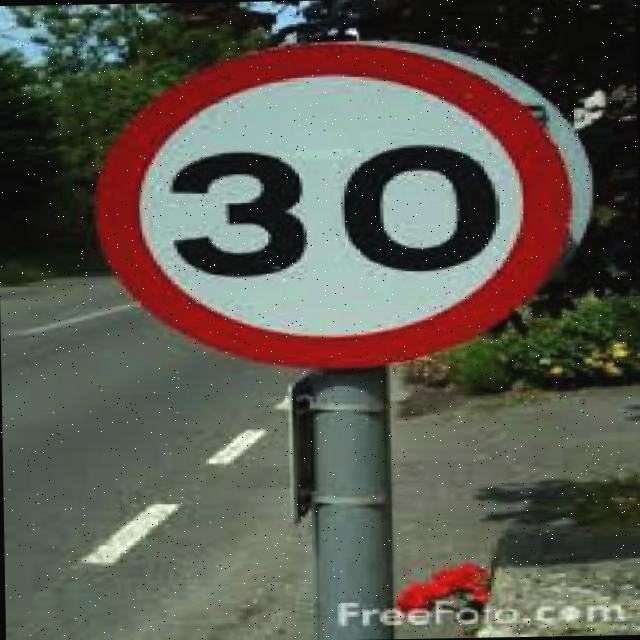Ograniczenie predkosci do 30: (101, 43, 557, 369)
